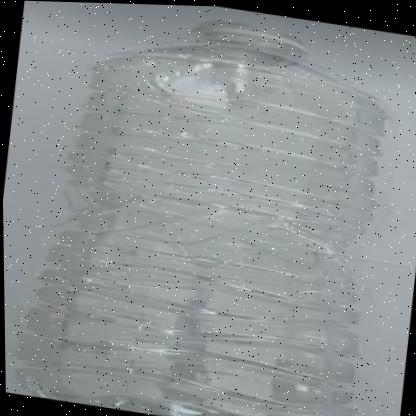open bottle: (56, 2, 416, 151)
